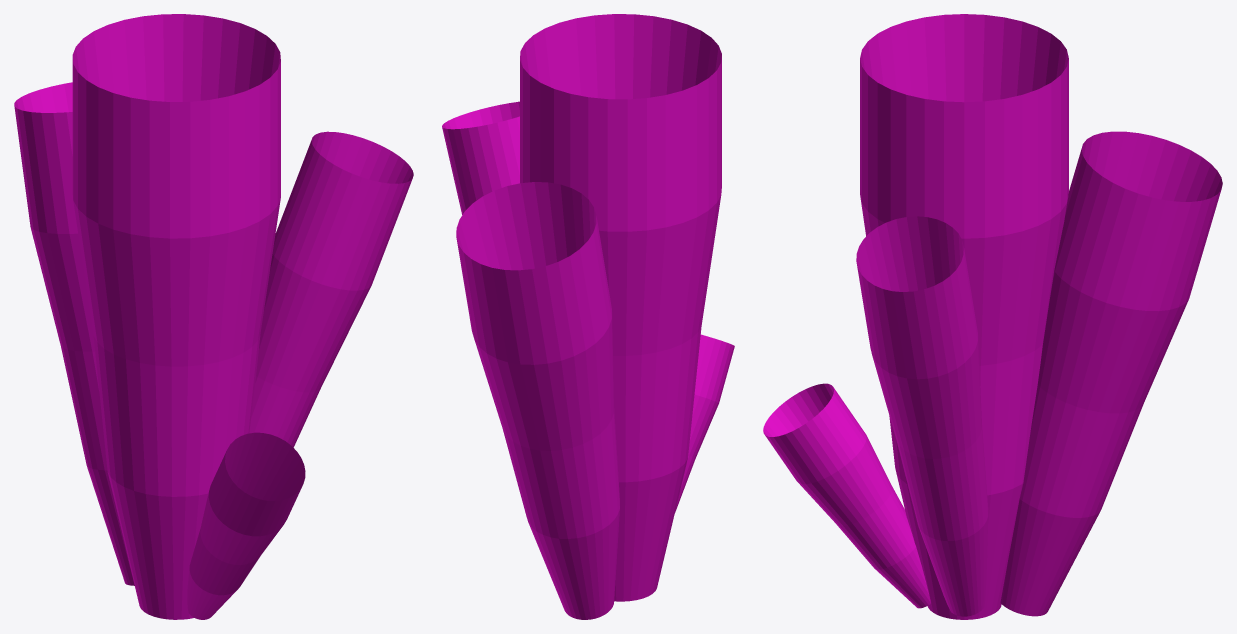
File: coral1.fbx
The picture shows the model from 3 angles, left to right: view 1: azimuth 30°, elevation 25°; view 2: azimuth 150°, elevation 25°; view 3: azimuth 270°, elevation 25°; orthographic projection. The views are drawn at different scales.
Visible parts, largest first — view 1: Cylinder, Cylinder.003, Cylinder.001, Cylinder.002; view 2: Cylinder, Cylinder.001, Cylinder.003, Cylinder.002; view 3: Cylinder, Cylinder.001, Cylinder.003, Cylinder.002.
Part boxes in pixels (x1,y1,x2,y2): Cylinder: (72, 14, 280, 619); Cylinder.003: (249, 131, 413, 447); Cylinder.001: (14, 82, 134, 585); Cylinder.002: (187, 432, 305, 619); Cylinder: (520, 14, 721, 601); Cylinder.001: (456, 182, 619, 619); Cylinder.003: (442, 101, 519, 214); Cylinder.002: (675, 334, 734, 512); Cylinder: (860, 14, 1068, 619); Cylinder.001: (1000, 131, 1222, 616); Cylinder.003: (856, 216, 988, 616); Cylinder.002: (763, 383, 930, 608).
Bounding box in the file's own units: 162 × 291 × 220.
